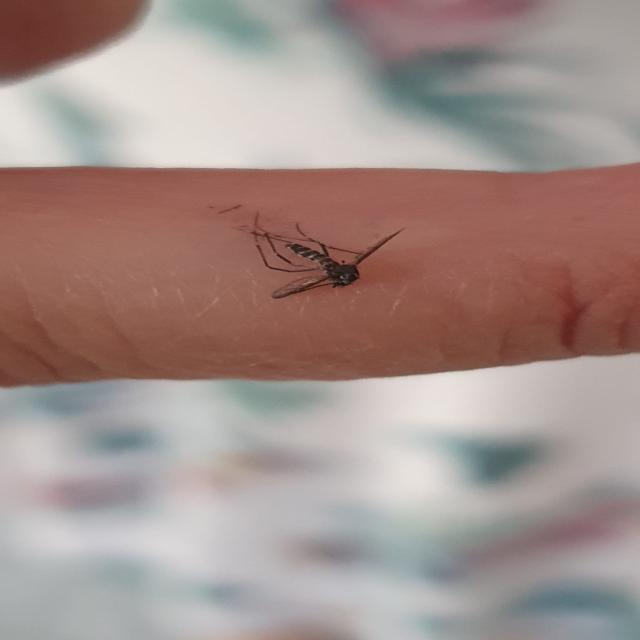albopictus: (216, 211, 414, 300)
